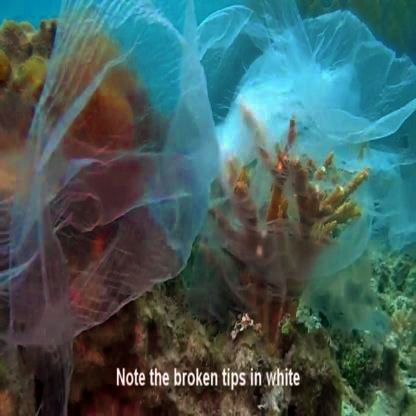pbag: (0, 1, 224, 416), (193, 2, 416, 330)
